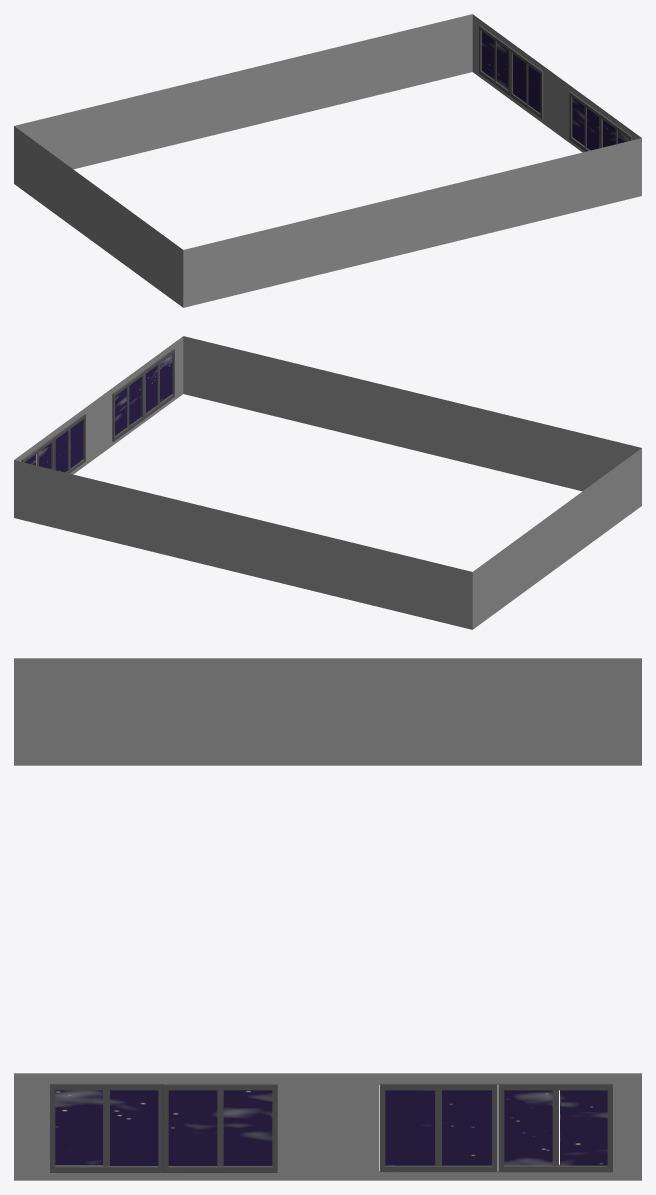
The model's file is office night kabe.fbx.
3 renders of one model, top to bottom at view 1: azimuth 30°, elevation 25°; view 2: azimuth 150°, elevation 25°; view 3: azimuth 270°, elevation 25°, orthographic. The views are drawn at different scales.
Parts seen in each view (by area): view 1: kabe; view 2: kabe; view 3: kabe.
Boxes of the visible parts, bbox=[...] form: kabe: bbox=[14, 14, 641, 307]; kabe: bbox=[14, 336, 641, 629]; kabe: bbox=[14, 658, 641, 1180].
Size of the model in its own units: 2458 by 296 by 1570.
